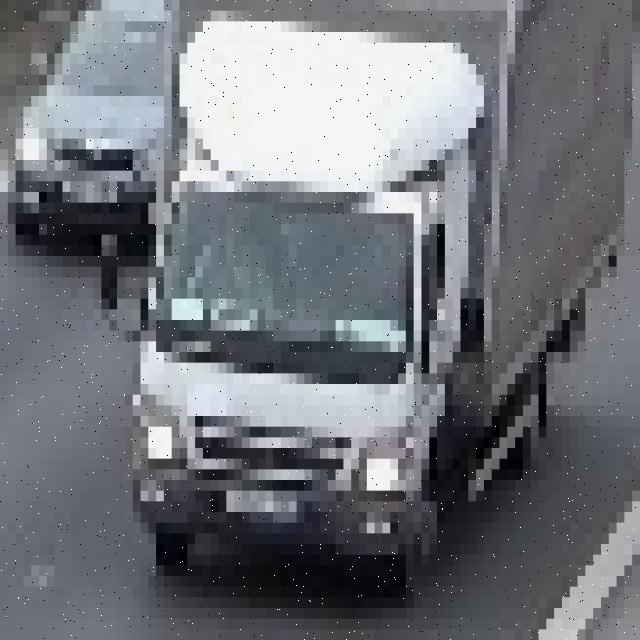truck: (94, 0, 632, 576)
